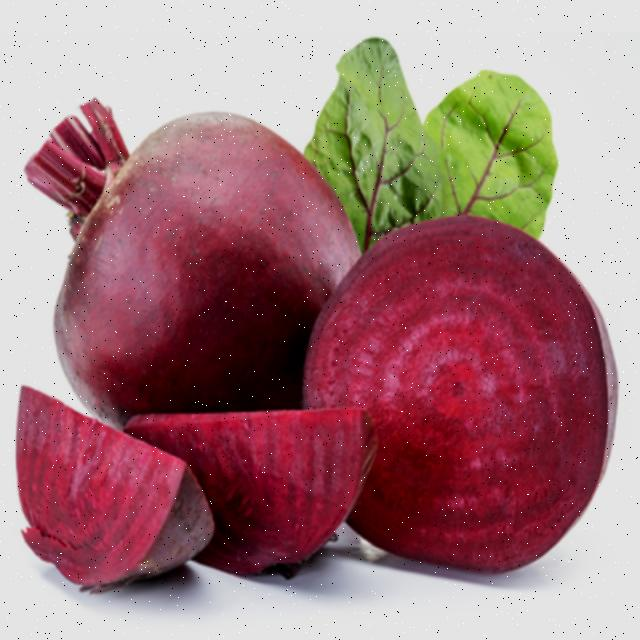Beetroot: (37, 55, 550, 589), (0, 363, 384, 640)
